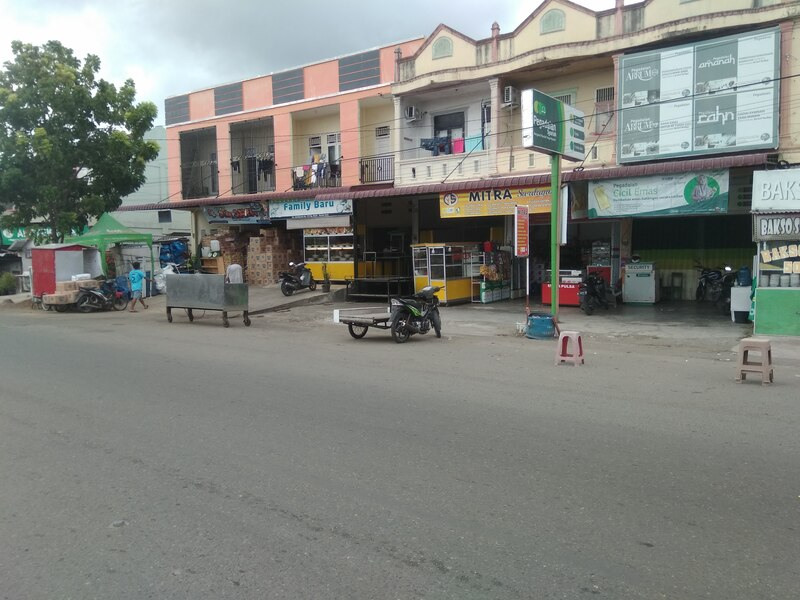becak barang: (331, 281, 446, 344), (51, 273, 130, 314)
